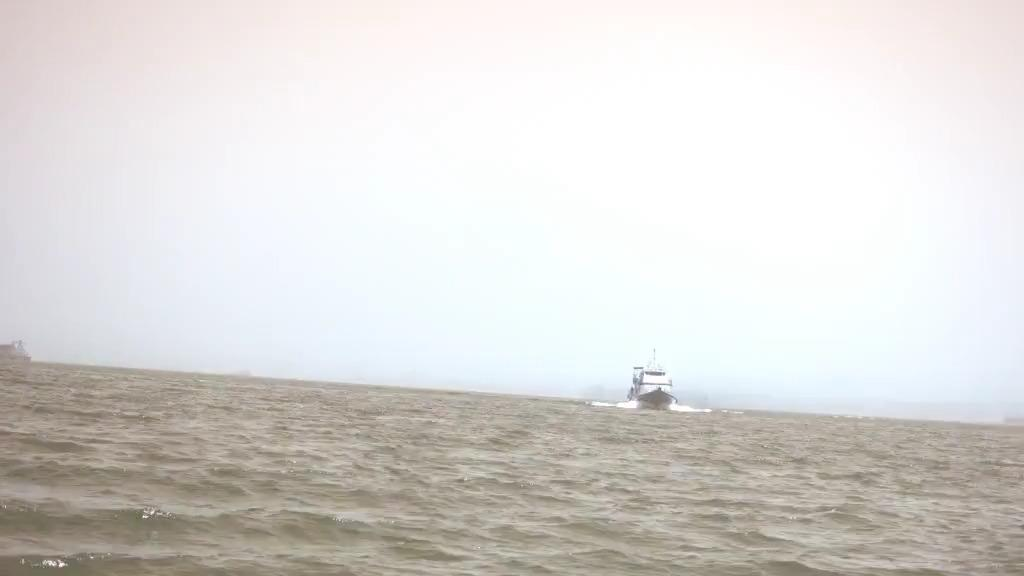PassengerShip: (624, 349, 680, 414)
